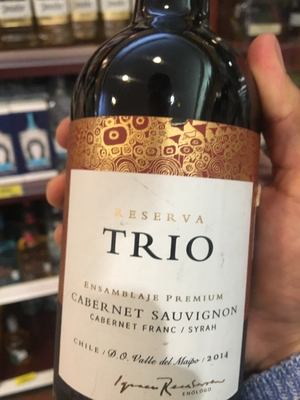trio cabernet sauvignon: (55, 30, 260, 400)
